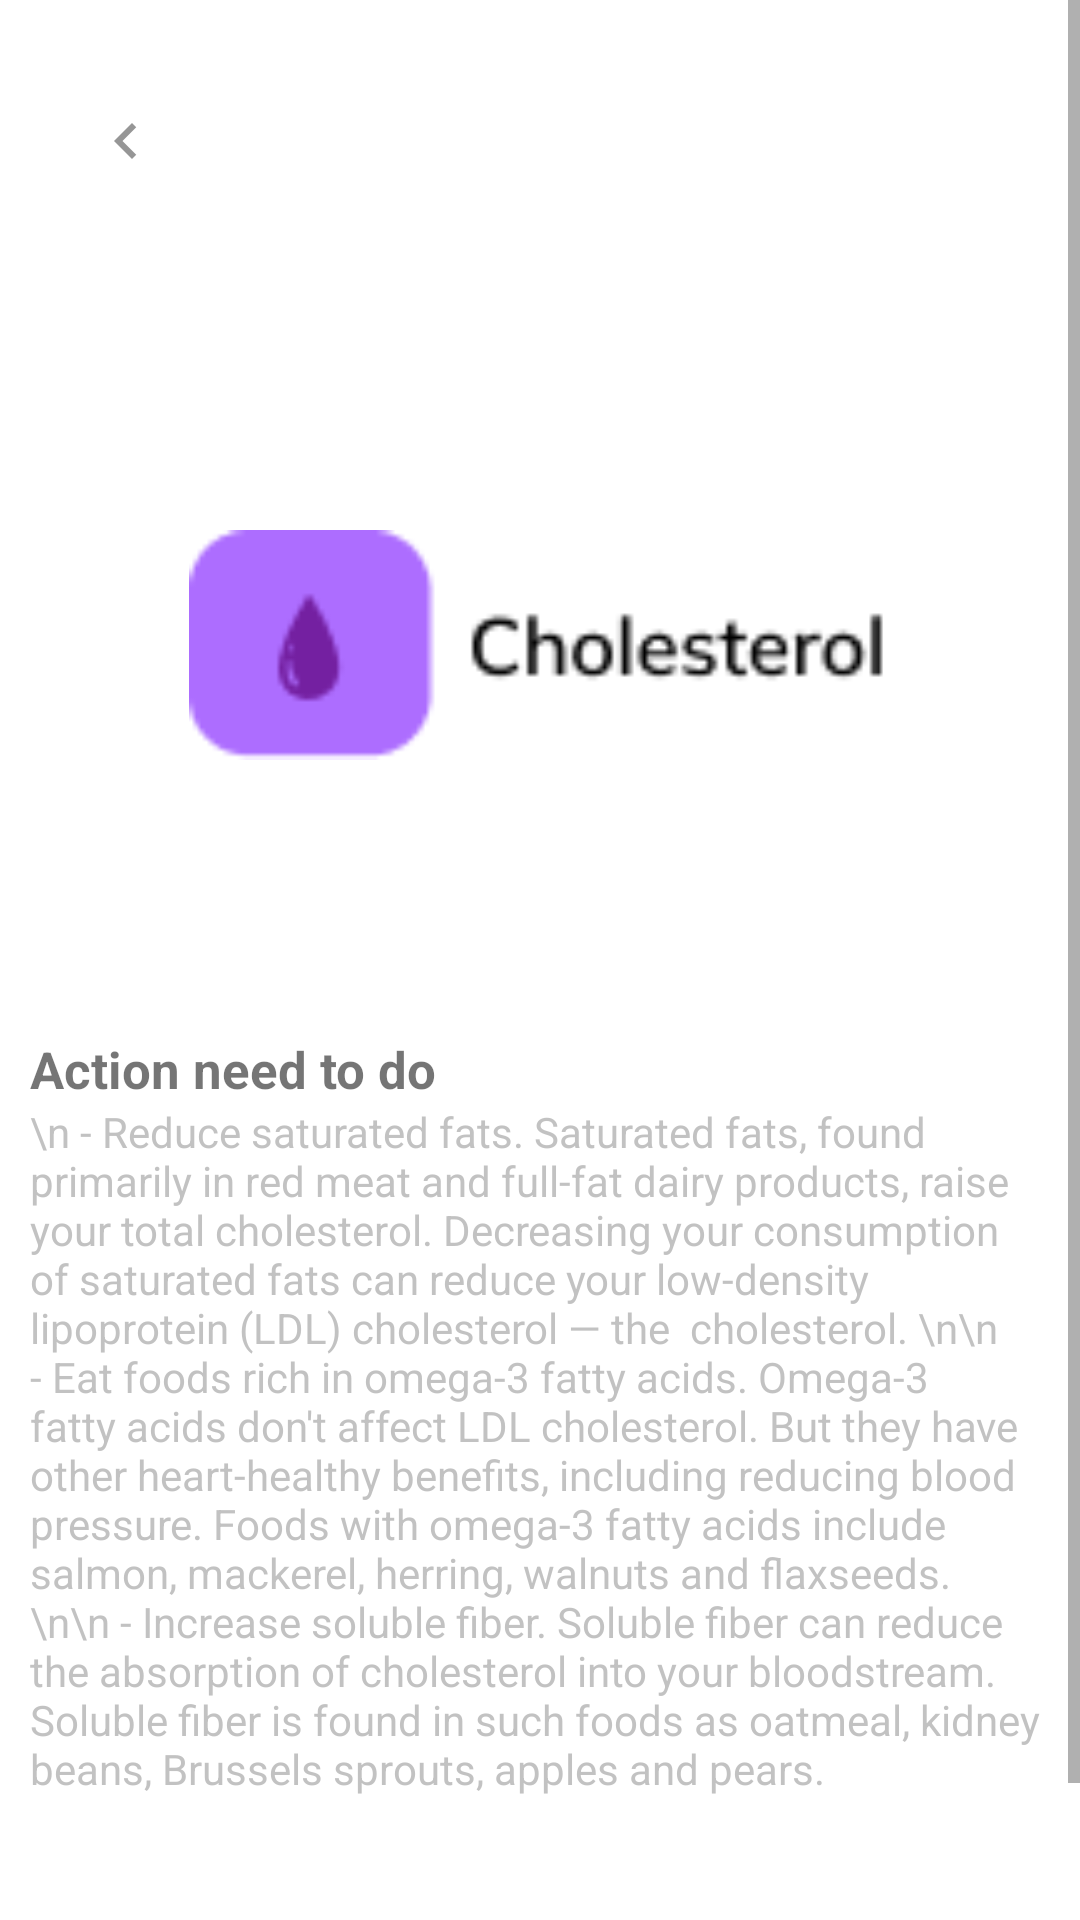

Where to tap for icons on this 1080 × 1920 app screen, as (x=x, y=y):
back: (x=125, y=141)
